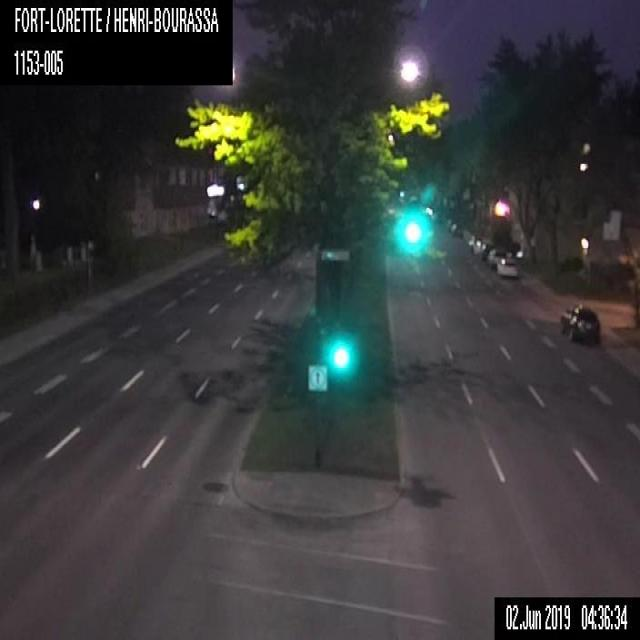vehicle: (558, 304, 600, 345), (497, 256, 519, 278), (468, 234, 485, 253), (487, 248, 507, 264), (450, 221, 462, 236)
